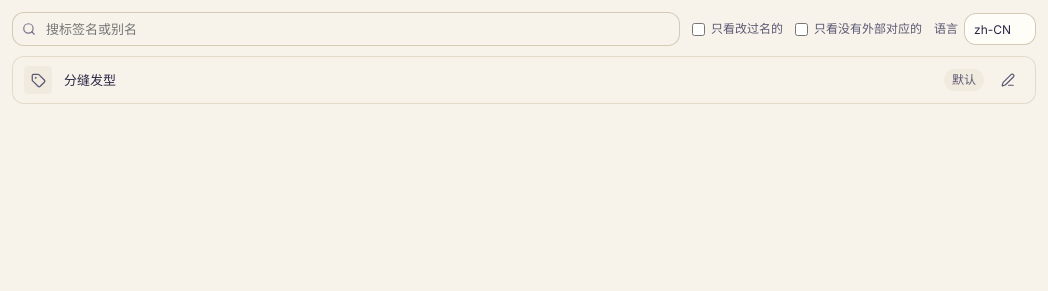
discards a late name edit result when safe mode changes
Click the button named "改名“分缝发型”".
click(1008, 80)  # box [992,64,1024,96]
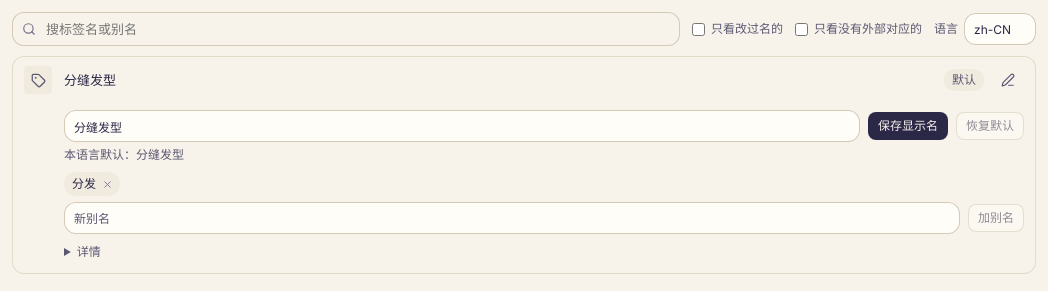
Click the button "保存显示名".
click(908, 126)  # box [868,112,948,140]
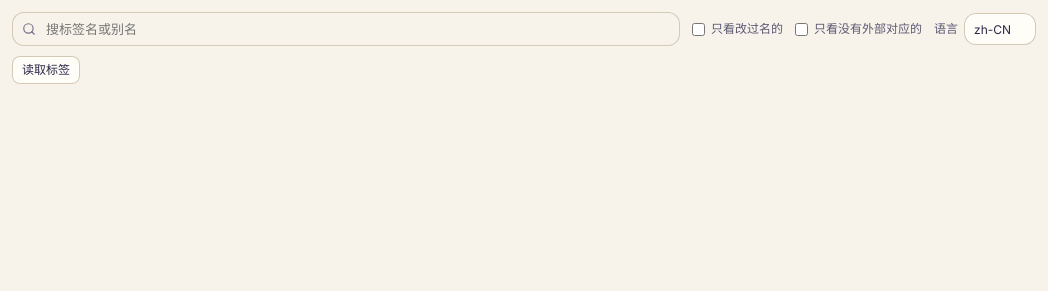
Check: the button "保存显示名" is gone
Check: the text "分缝发型" is gone
